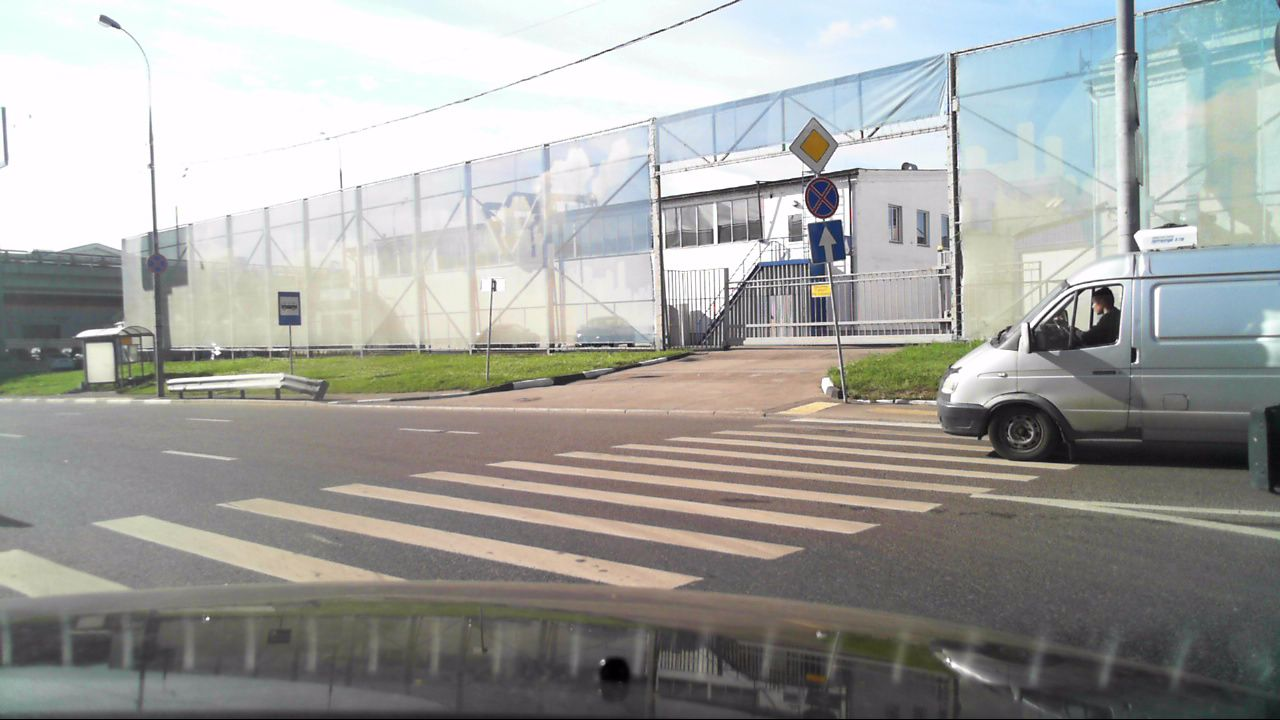No Parking: (804, 173, 841, 219)
